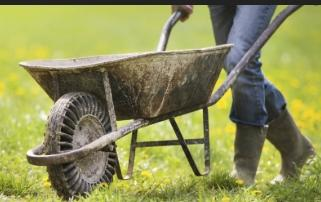BROUETTE: (9, 11, 320, 199)
